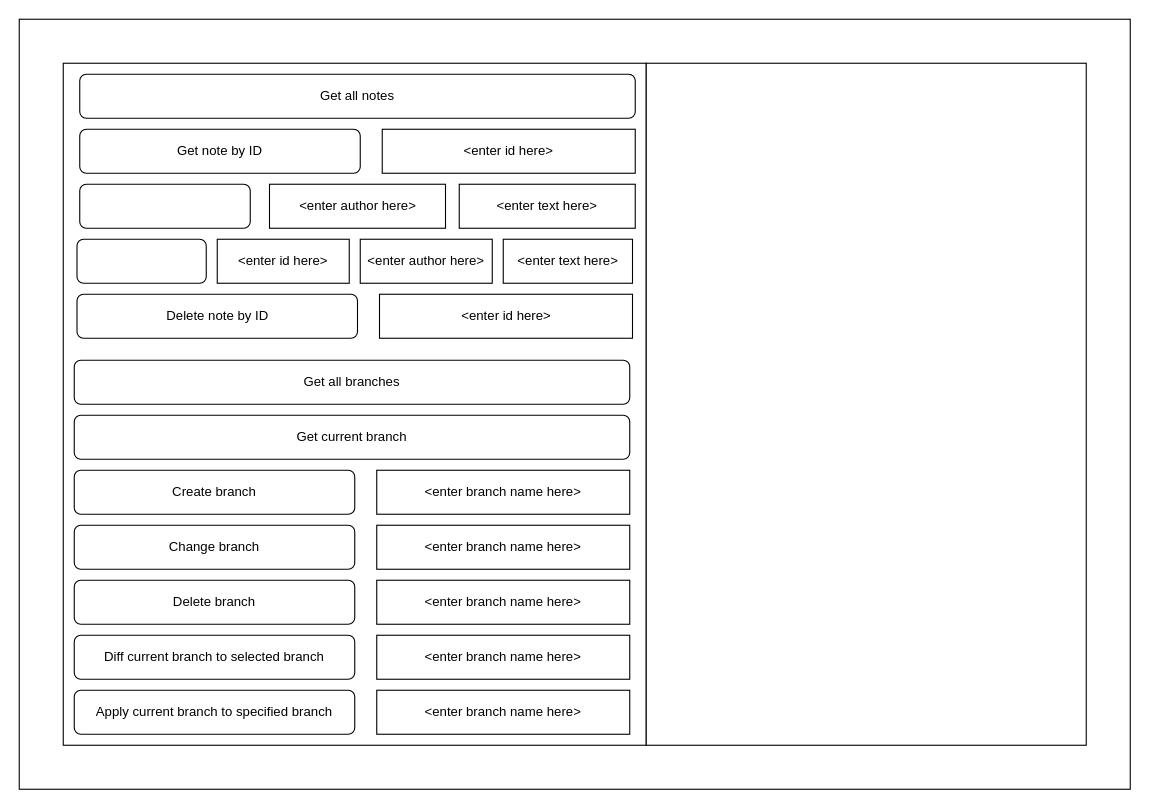
Image size: 1150x809. Some labels were removed from this diagram. Each missing label, with the box of its shape:
Add note: (79, 183, 250, 228)
JSON responses: (645, 62, 1086, 745)
Update note: (76, 238, 206, 283)
